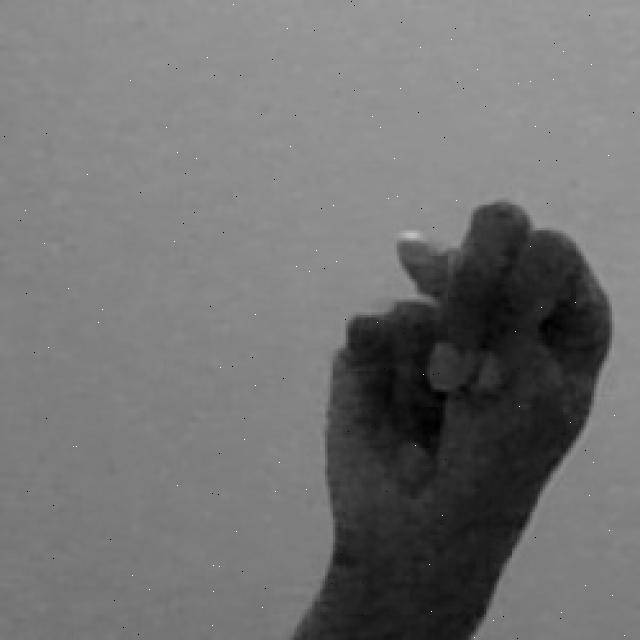N: (280, 193, 621, 640)
